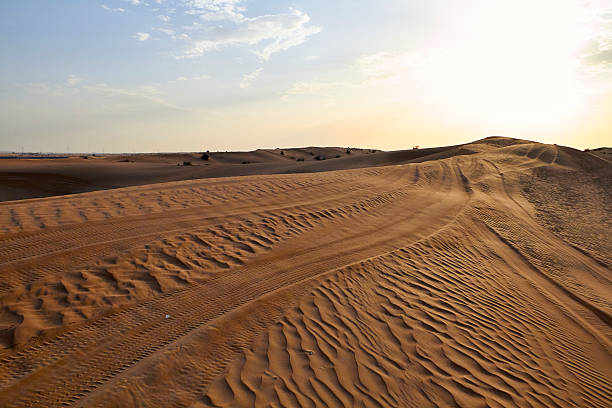vehicle_track: (0, 195, 464, 405), (0, 190, 409, 330), (0, 189, 375, 289), (477, 155, 605, 274), (479, 229, 611, 343)
